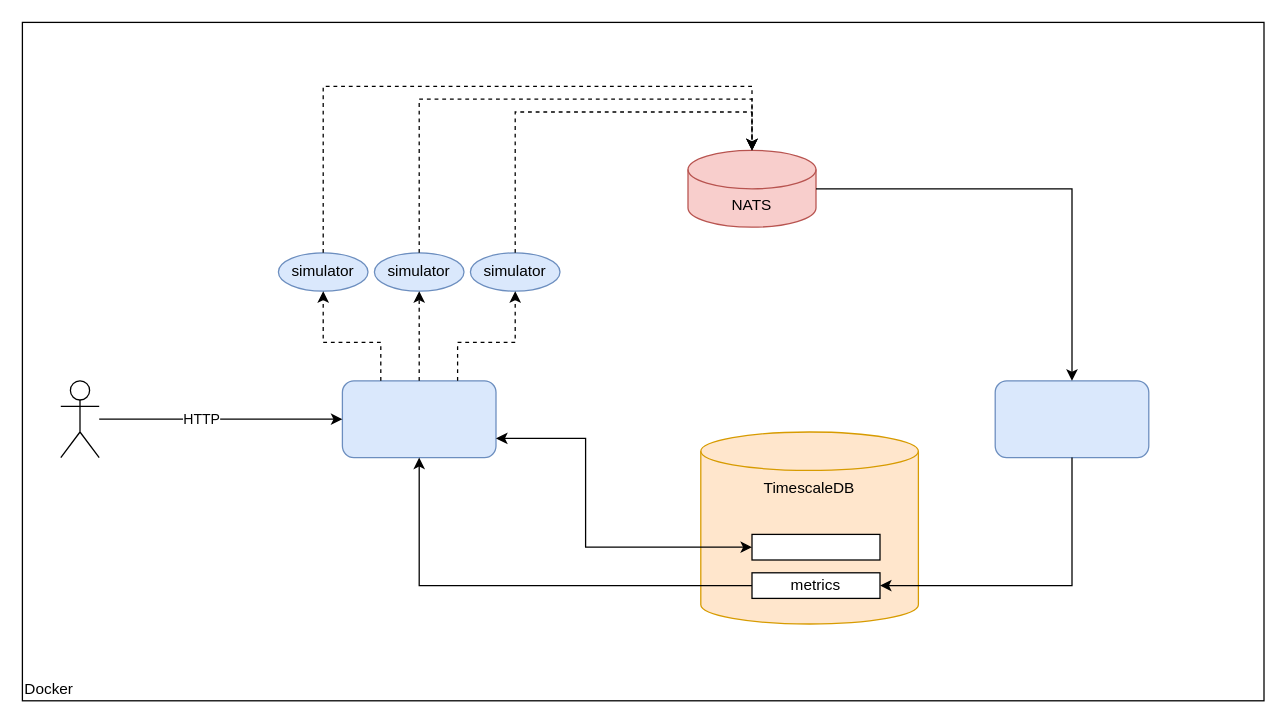
Image size: 1286x723. Some labels were removed from this diagram. Here are the shapes that lost their labels. From the top down, the centre of each, then its label:
At (79,419): "User".
At (418,419): "GAN (Go API NATS)".
At (1071,419): "NTA (NATS TimescaleDB Adapter)".
At (815,546): "devices".
